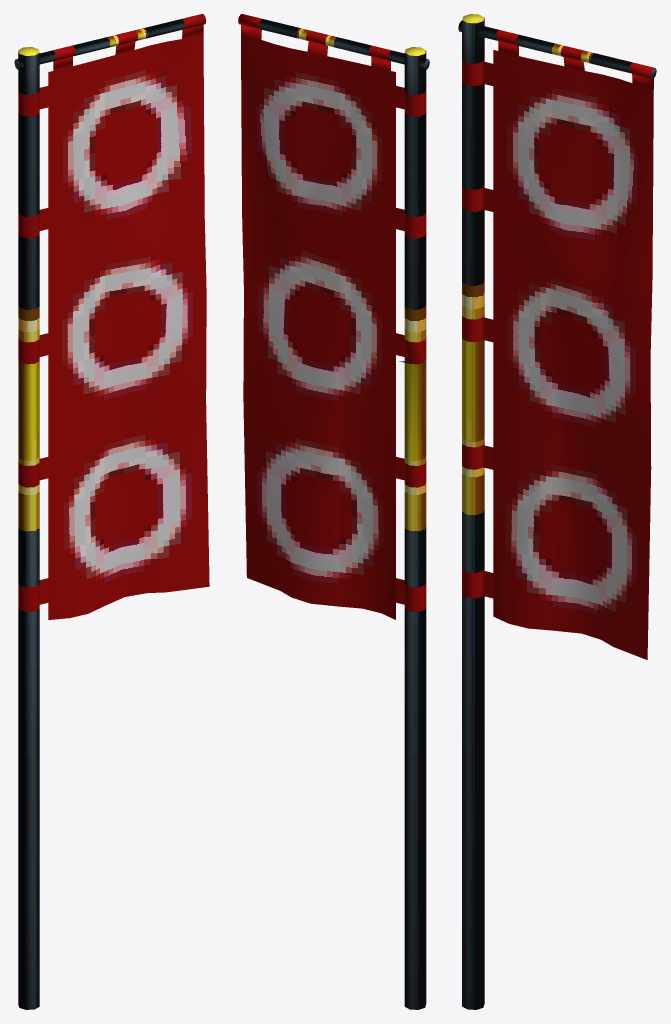
File: rmk_frt_flag.dae
3 views of the same model, side by side, from view 1: azimuth 30°, elevation 25°; view 2: azimuth 150°, elevation 25°; view 3: azimuth 330°, elevation 25° (orthographic). The views are drawn at different scales.
Parts seen in each view (by area): view 1: rmk_frt_flag; view 2: rmk_frt_flag; view 3: rmk_frt_flag.
Boxes of the visible parts, x1=… form: rmk_frt_flag: x1=14, y1=14, x2=209, y2=1009; rmk_frt_flag: x1=238, y1=14, x2=429, y2=1009; rmk_frt_flag: x1=458, y1=14, x2=656, y2=1009.
Bounding box in the file's own units: 19.21 × 94 × 2.08.
2 materials, 2 textured.
